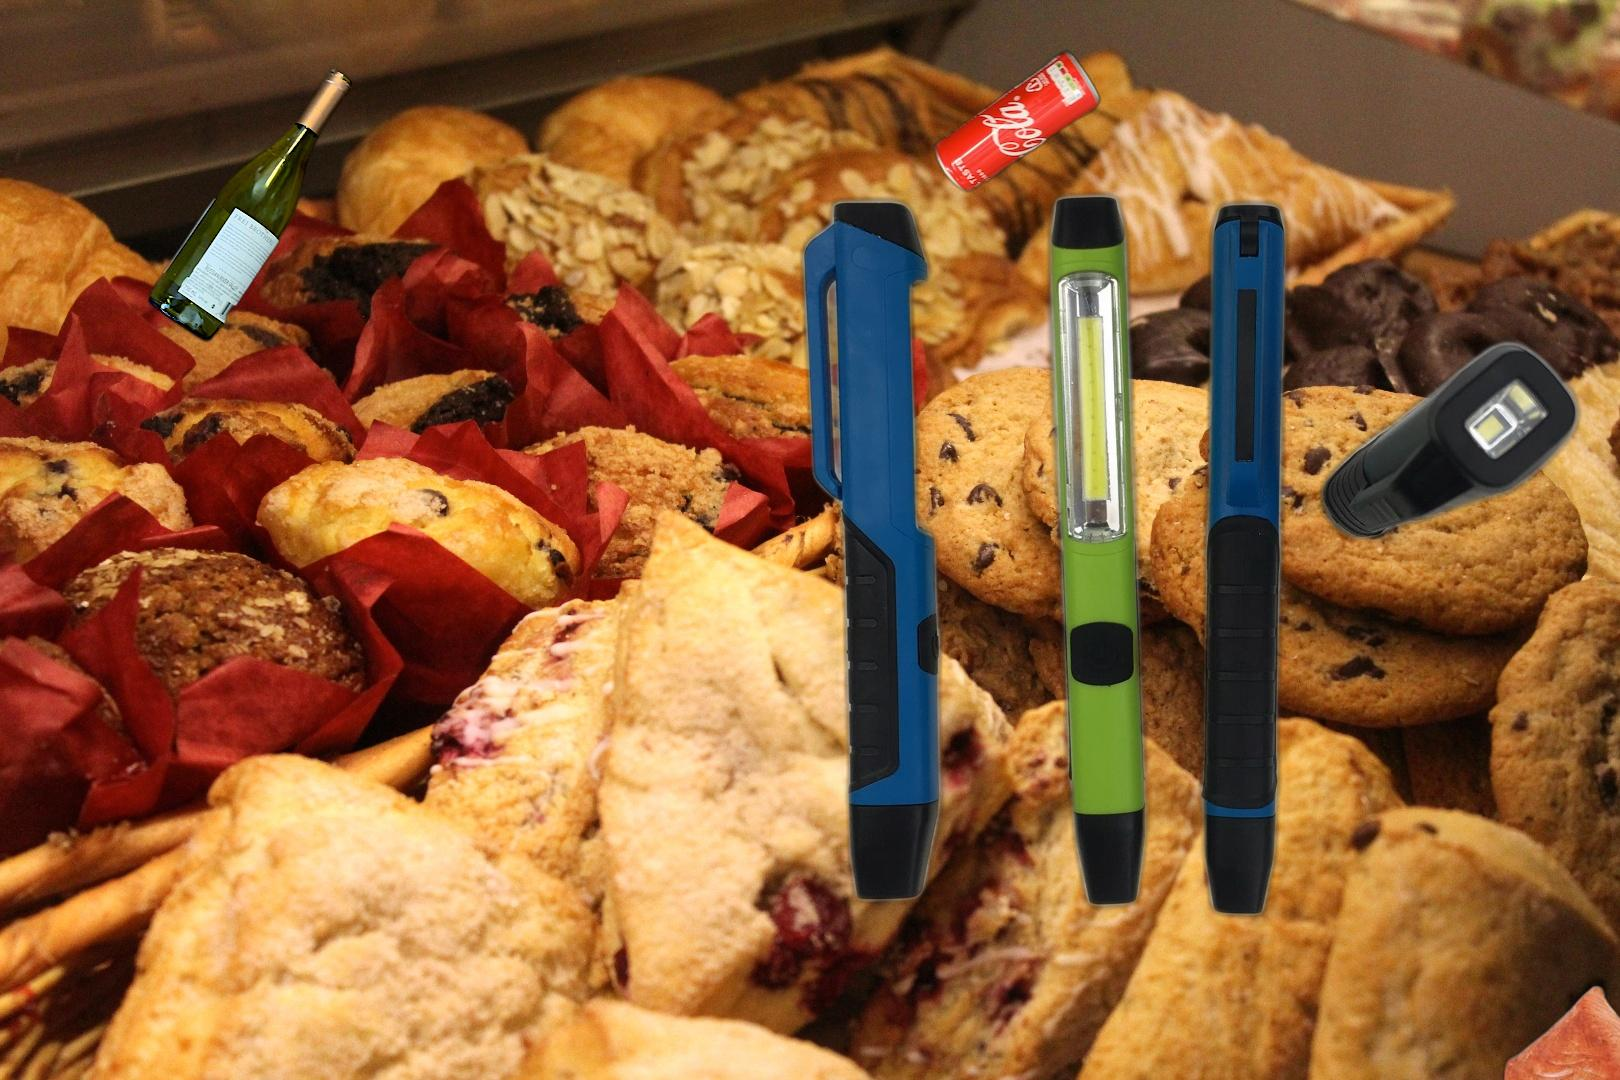glass: (143, 63, 356, 347)
metal-cans: (729, 45, 1105, 559)
paper: (1497, 982, 1620, 1080)
penholder: (792, 182, 1590, 927)
